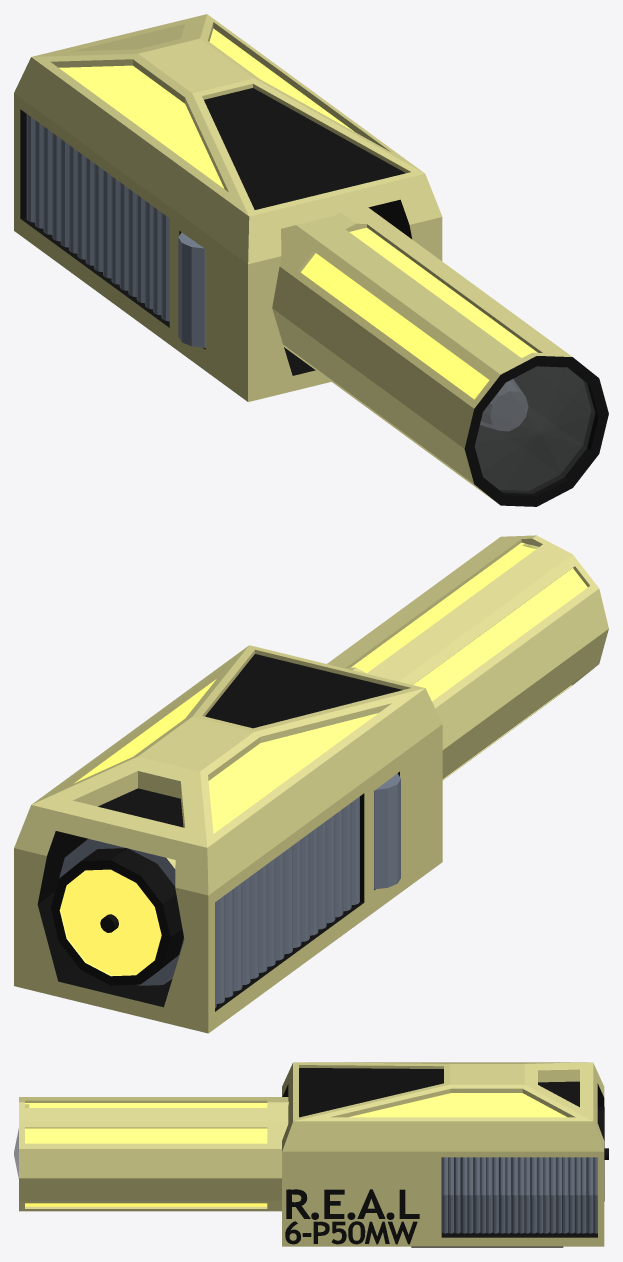
File: Size6RealPulseLaser.glb
3 views of the same model, one above another, from view 1: azimuth 30°, elevation 25°; view 2: azimuth 150°, elevation 25°; view 3: azimuth 270°, elevation 25° (orthographic). The views are drawn at different scales.
Visible parts, largest first — view 1: Size6RealPulseLaser; view 2: Size6RealPulseLaser; view 3: Size6RealPulseLaser.
Part boxes in pixels (<box>): Size6RealPulseLaser: <box>14,14,608,506</box>; Size6RealPulseLaser: <box>14,535,608,1033</box>; Size6RealPulseLaser: <box>14,1062,608,1247</box>.
Bounding box in the file's own units: 1.61 × 1.66 × 5.87.
